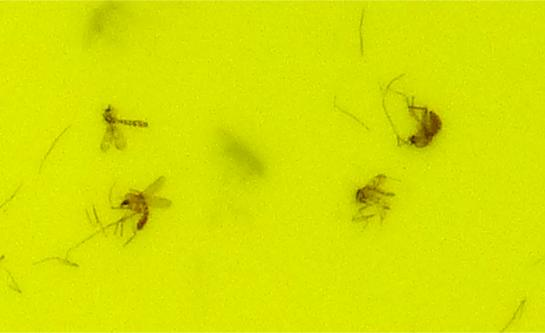Nematocera: (396, 100, 445, 151), (116, 189, 161, 233), (100, 103, 149, 141), (351, 172, 394, 212)
